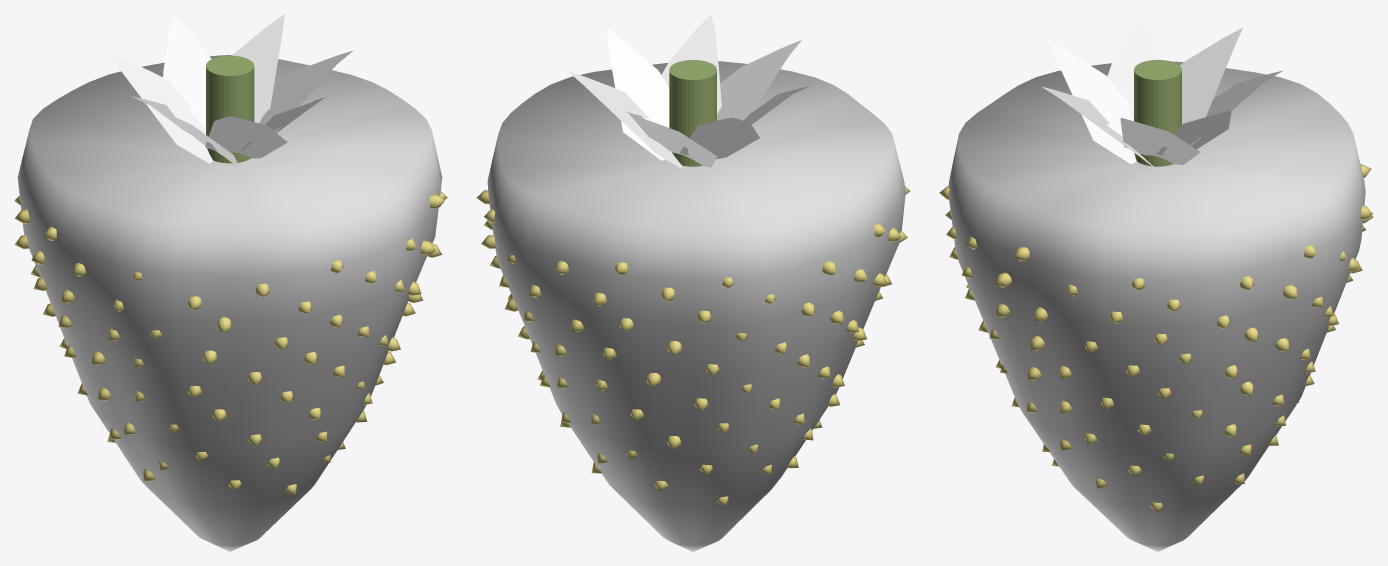
The model's file is fraise.glb.
The picture shows the model from 3 angles, left to right: view 1: azimuth 30°, elevation 25°; view 2: azimuth 150°, elevation 25°; view 3: azimuth 270°, elevation 25°; orthographic projection.
Parts seen in each view (by area): view 1: Fraise_Corps, Fraise_Graines, Tige, Feuille_4, Feuille_3, Feuille_2, Feuille_6, Feuille_1, Feuille_5, Feuille_0; view 2: Fraise_Corps, Fraise_Graines, Feuille_1, Tige, Feuille_6, Feuille_2, Feuille_4, Feuille_0, Feuille_3, Feuille_5; view 3: Fraise_Corps, Fraise_Graines, Feuille_6, Tige, Feuille_4, Feuille_5, Feuille_1, Feuille_2, Feuille_3, Feuille_0.
Boxes of the visible parts, bbox=[...] form: Fraise_Corps: bbox=[17, 55, 442, 551]; Fraise_Graines: bbox=[14, 191, 447, 495]; Tige: bbox=[206, 55, 254, 163]; Feuille_4: bbox=[106, 51, 212, 163]; Feuille_3: bbox=[163, 14, 211, 130]; Feuille_2: bbox=[232, 14, 284, 122]; Feuille_6: bbox=[205, 116, 287, 158]; Feuille_1: bbox=[259, 50, 353, 132]; Feuille_5: bbox=[131, 96, 238, 165]; Feuille_0: bbox=[241, 96, 327, 151]; Fraise_Corps: bbox=[487, 61, 905, 551]; Fraise_Graines: bbox=[476, 186, 910, 506]; Feuille_1: bbox=[607, 28, 669, 160]; Tige: bbox=[669, 60, 716, 166]; Feuille_6: bbox=[717, 40, 801, 120]; Feuille_2: bbox=[568, 71, 682, 168]; Feuille_4: bbox=[679, 117, 759, 158]; Feuille_0: bbox=[661, 14, 721, 114]; Feuille_3: bbox=[624, 111, 717, 167]; Feuille_5: bbox=[714, 86, 809, 151]; Fraise_Corps: bbox=[948, 61, 1365, 551]; Fraise_Graines: bbox=[939, 164, 1373, 512]; Feuille_6: bbox=[1048, 40, 1136, 163]; Tige: bbox=[1134, 59, 1181, 166]; Feuille_4: bbox=[1180, 27, 1242, 124]; Feuille_5: bbox=[1107, 14, 1160, 118]; Feuille_1: bbox=[1120, 118, 1200, 164]; Feuille_2: bbox=[1157, 110, 1231, 155]; Feuille_3: bbox=[1189, 70, 1282, 146]; Feuille_0: bbox=[1041, 86, 1155, 168].
Bounding box in the file's own units: 0.029 × 0.0357 × 0.029.
